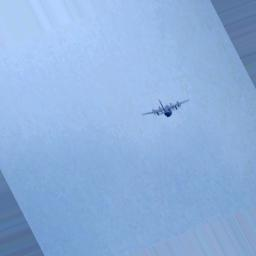Airplane: (140, 95, 190, 119)
